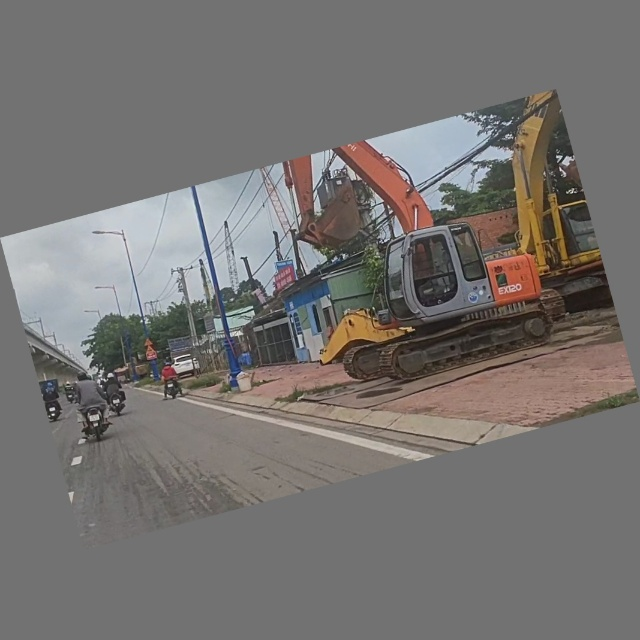W.203c: (143, 337, 155, 348)
W.245a: (144, 345, 157, 355)
